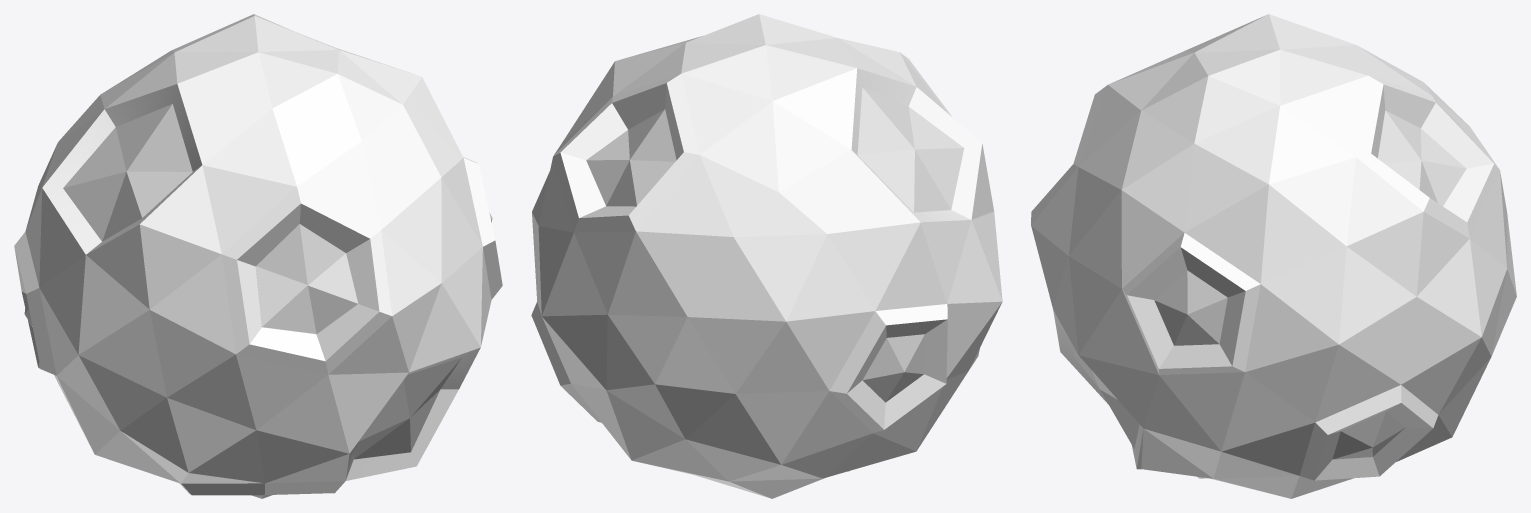
Rendered from SM_Moon.fbx.
3 views of the same model, side by side, from view 1: azimuth 30°, elevation 25°; view 2: azimuth 150°, elevation 25°; view 3: azimuth 270°, elevation 25° (orthographic).
Parts seen in each view (by area): view 1: SM_Moon; view 2: SM_Moon; view 3: SM_Moon.
Part boxes in pixels (left/top/right/bottom): SM_Moon: left=14, top=14, right=502, bottom=498; SM_Moon: left=531, top=14, right=1002, bottom=498; SM_Moon: left=1031, top=14, right=1516, bottom=498.
Size of the model in its own units: 586 by 580 by 597.
